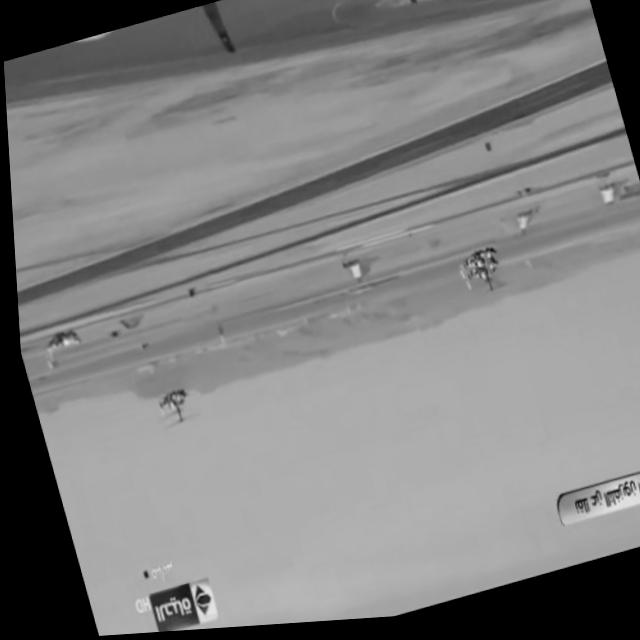helikopter: (435, 223, 520, 325), (131, 362, 210, 462)
